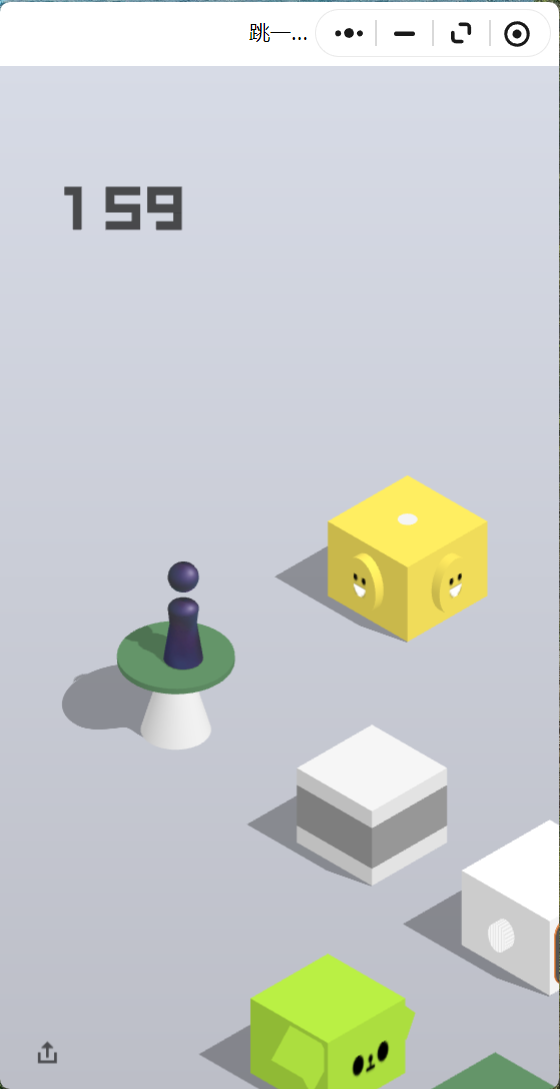piece: (168, 562, 197, 663)
target: (329, 475, 487, 566)
